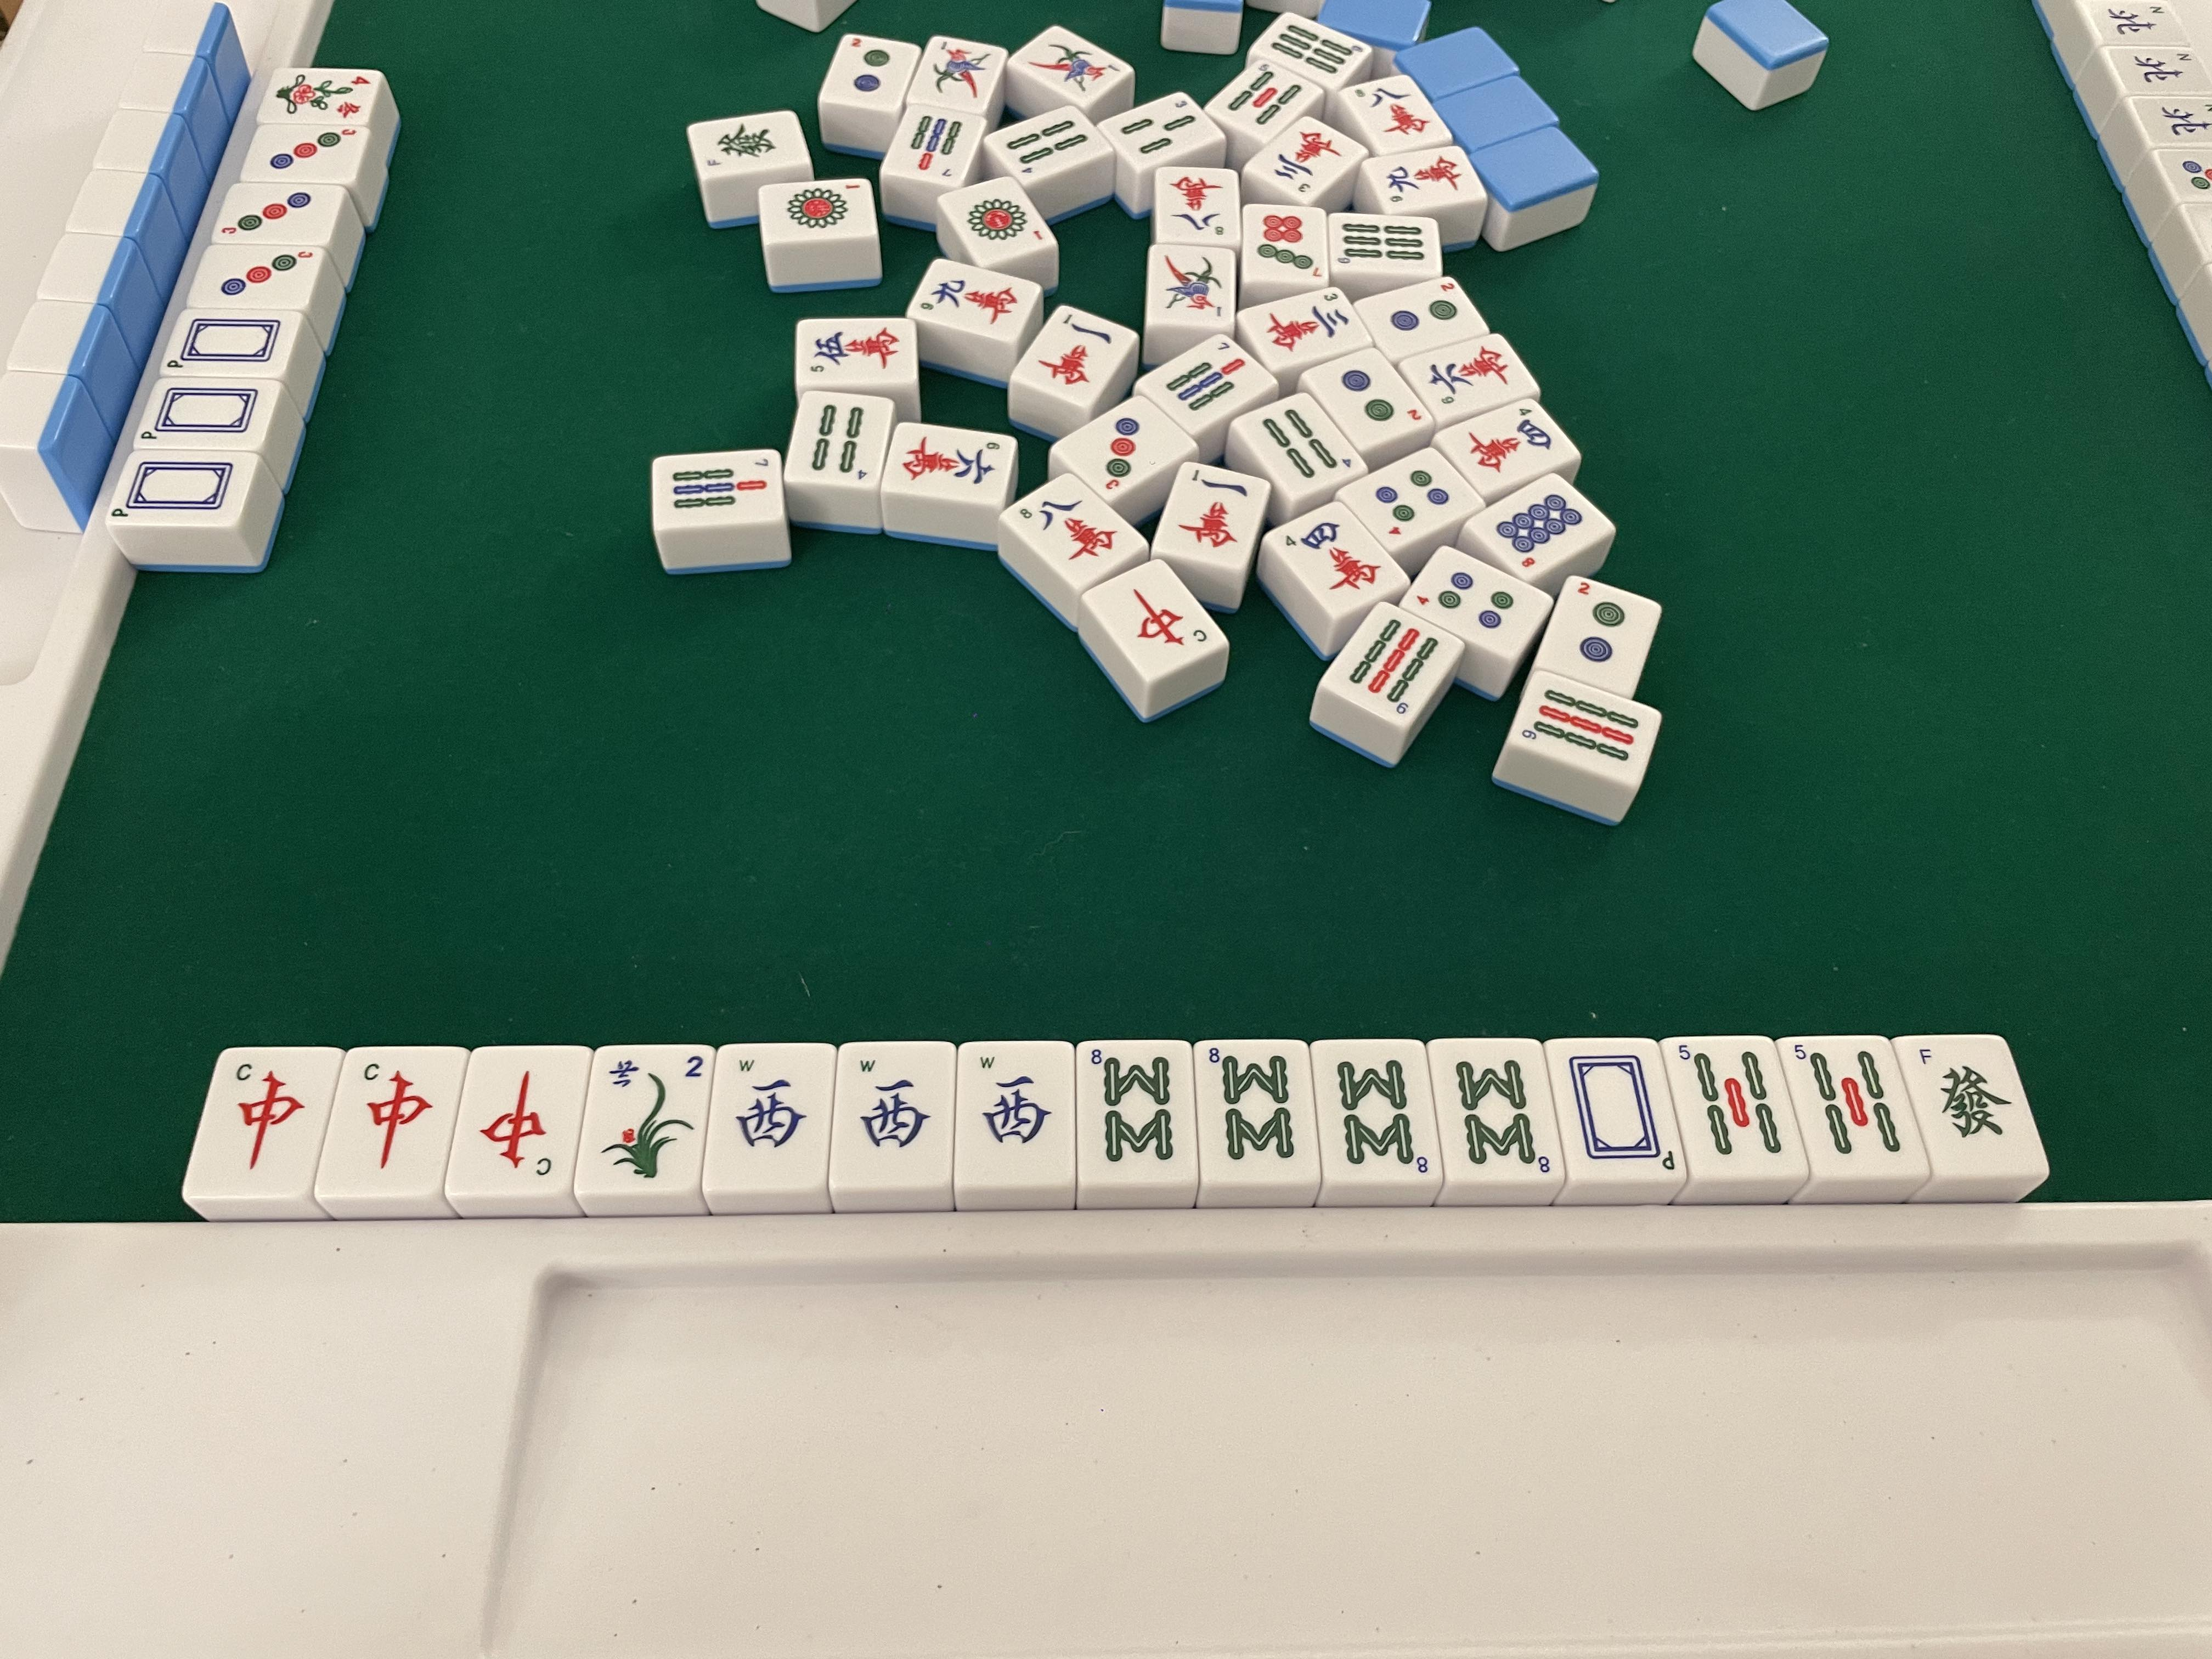bamboo-eight: (1451, 1044, 1555, 1178), (1331, 1046, 1428, 1180), (1205, 1042, 1301, 1168), (1087, 1042, 1181, 1168)
bamboo-five: (1677, 1040, 1787, 1169), (1791, 1039, 1905, 1159)
flower-blue_two: (594, 1047, 702, 1185)
honor-blue_dragon: (1562, 1049, 1672, 1178)
honor-green_dragon: (1914, 1033, 2020, 1164)
honor-red_dragon: (345, 1053, 437, 1187), (221, 1056, 312, 1190), (474, 1054, 561, 1185)
honor-west_wind: (845, 1049, 949, 1178), (968, 1044, 1066, 1176), (725, 1051, 819, 1180)
